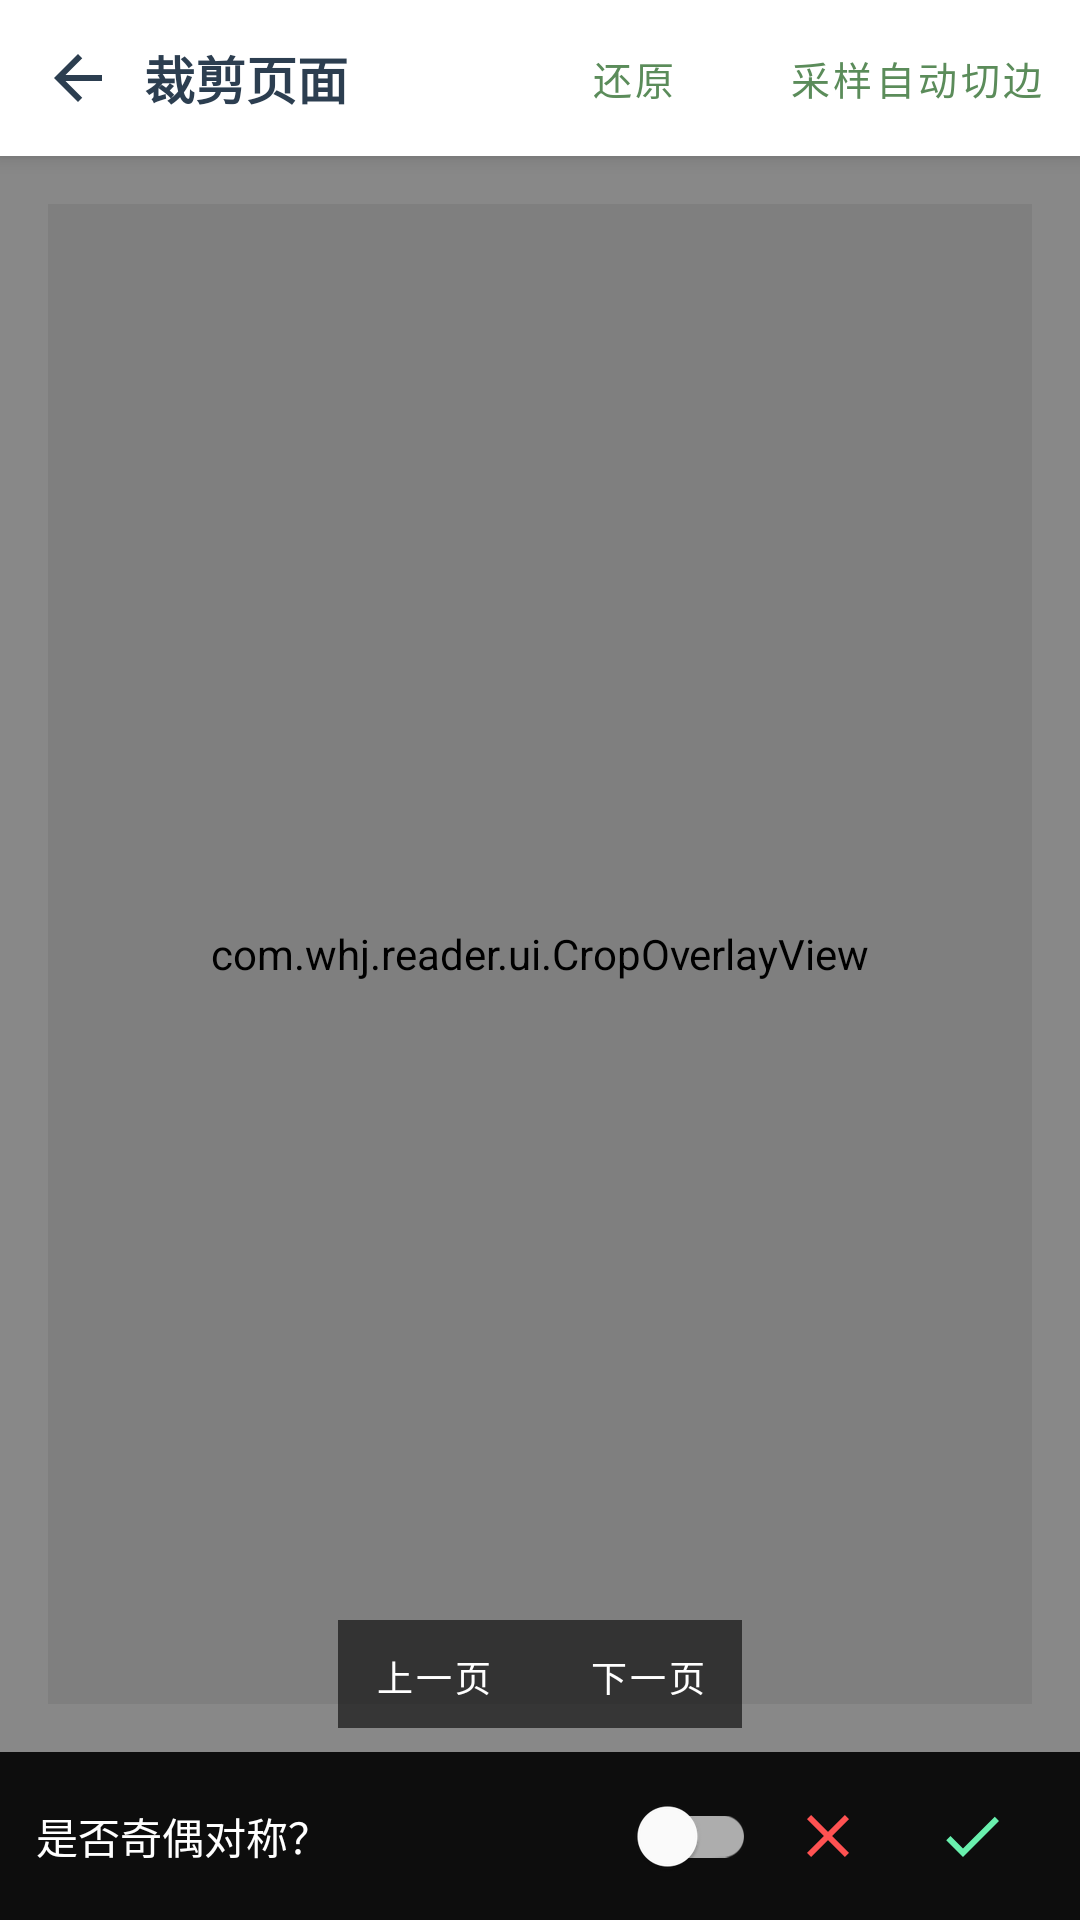

Named icons in this screenshot (1080px×1920px) and their bounding boxes, (x1, y1, x2, y2):
取消: (807, 1815, 849, 1857)
确认: (946, 1817, 999, 1857)
返回: (54, 54, 102, 102)
